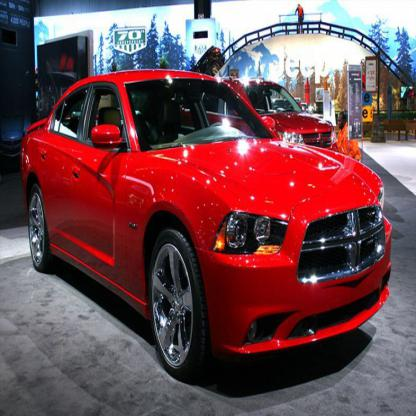Vehicle: (18, 67, 396, 390)
